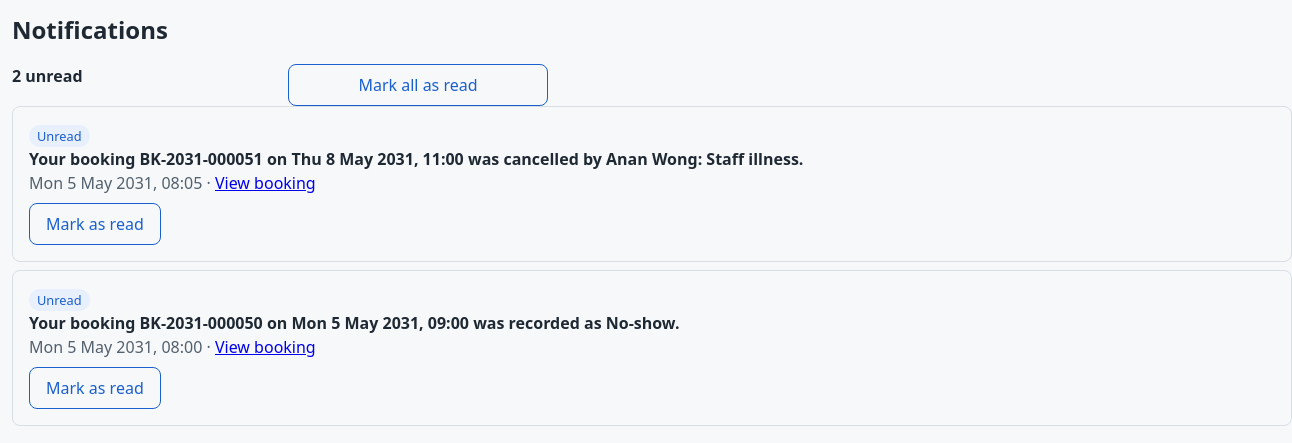
it: NotificationsPage (F-16) › UI-14: newest first, unread marked "Unread" in bold with a link to the booking; Mark as read and Mark all as read; empty state
expect the 1st list item shows "cancelled by Anan Wong: Staff illness.": met, box [29,148,803,170]
expect the 1st list item shows "Mon 5 May 2031, 08:05": met, box [12,106,1291,262]
Click the button "Mark as read" below "08:05" at x=95, y=224, box [29,203,161,245]
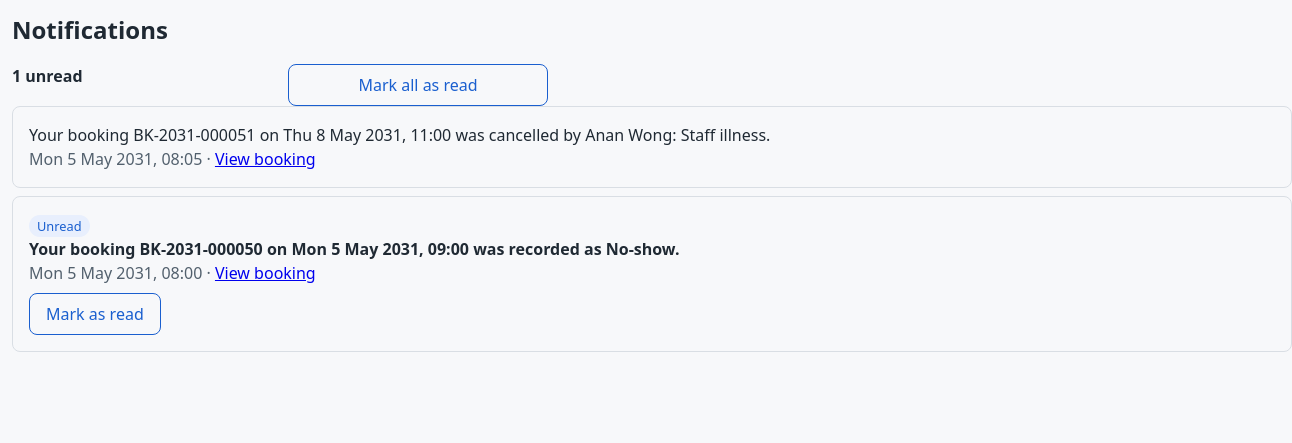
expect the text "1 unread" is shown: met, box [12,65,82,87]
Click the button "Mark all as read" at x=418, y=85, box [288,64,548,106]
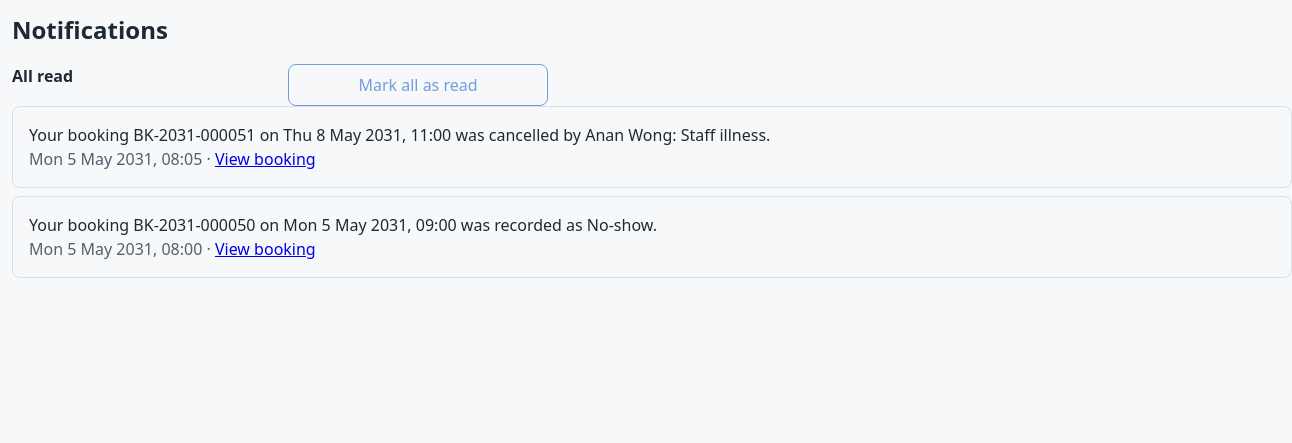
expect the text "All read" is shown: met, box [12,65,73,87]
expect the button "Mark all as read" is disabled: met, box [288,64,548,106]
